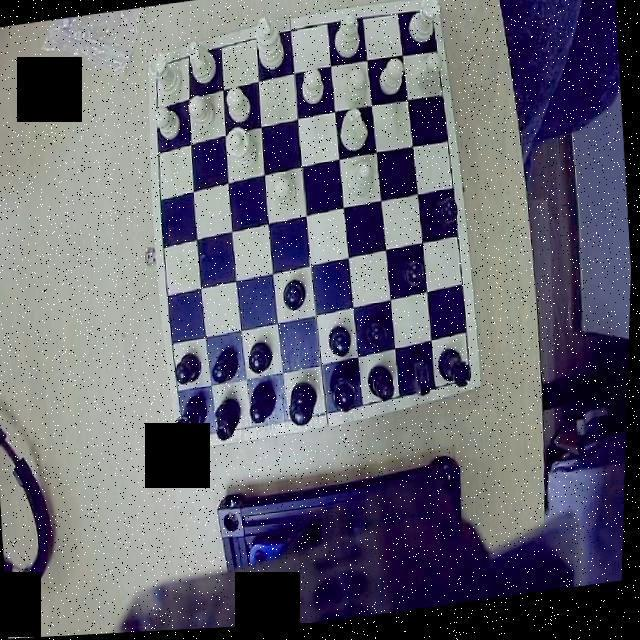chess-table-corners: (447, 364, 481, 396), (177, 417, 210, 447), (411, 5, 442, 36), (148, 56, 174, 84)
